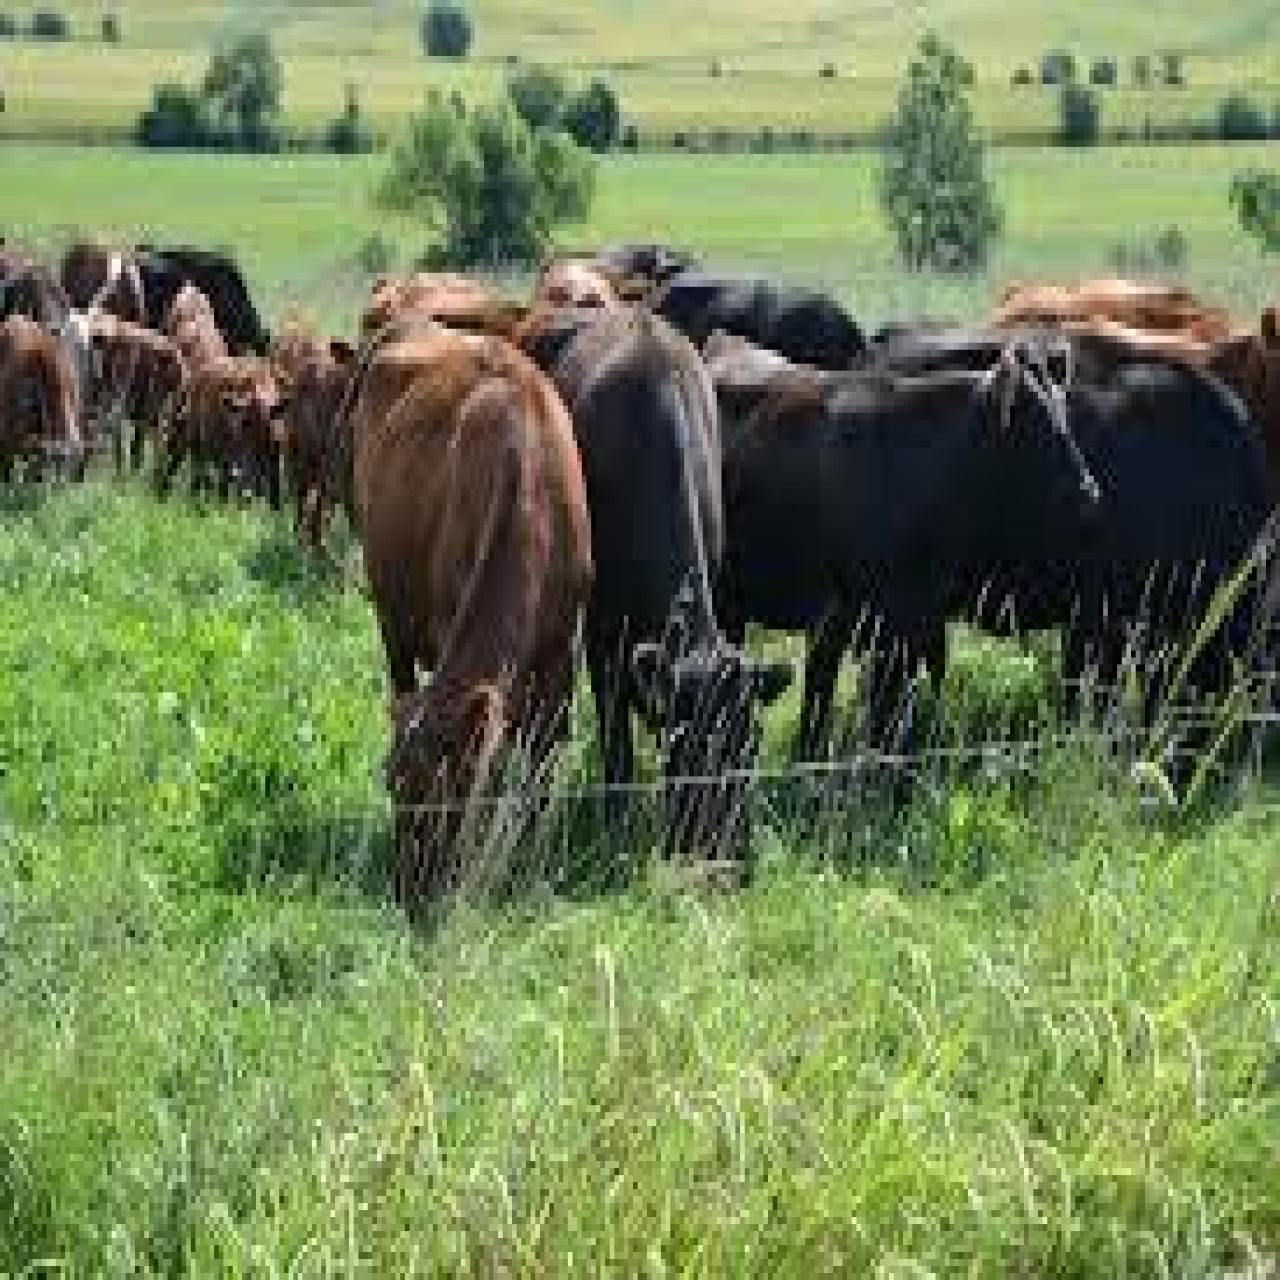cow: (693, 328, 1108, 797), (508, 301, 801, 874), (338, 325, 598, 941), (59, 307, 189, 490), (0, 293, 93, 511), (186, 363, 284, 517)
